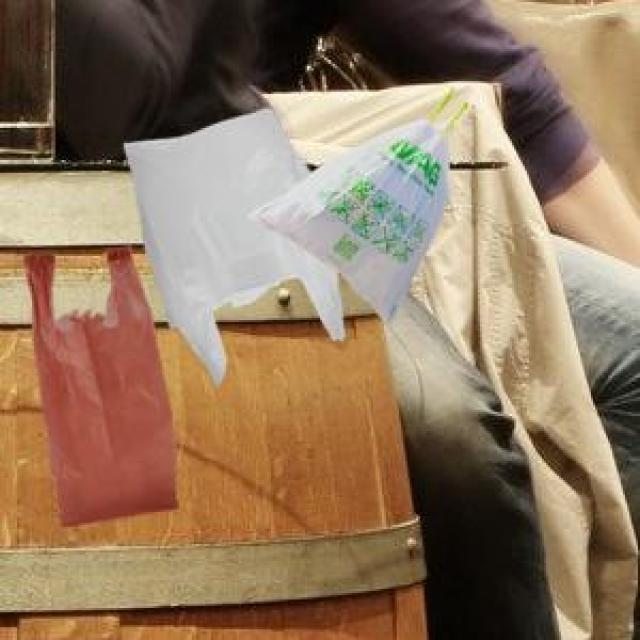plastic: (18, 91, 512, 527)
